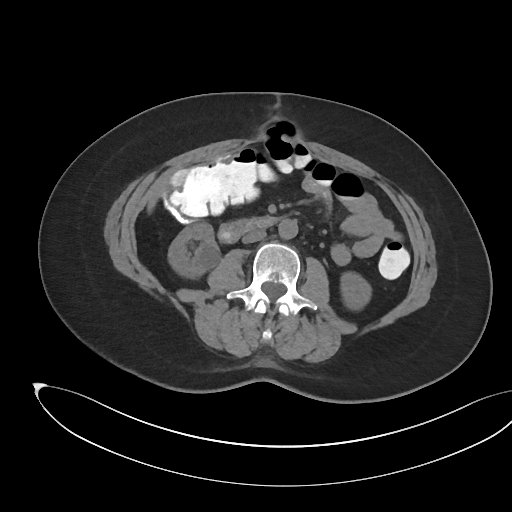Lesion: (195, 239, 223, 273)
